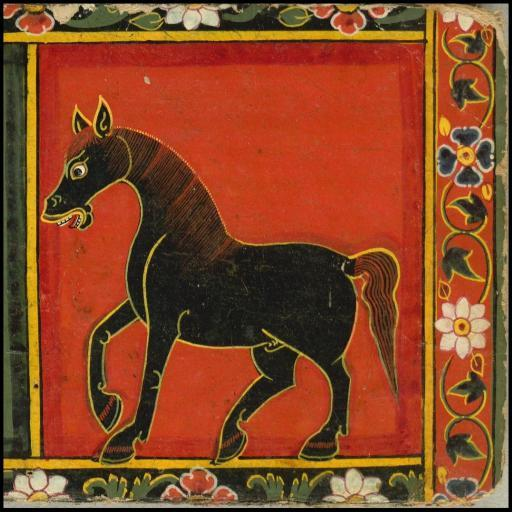Horse: (37, 95, 400, 467)
